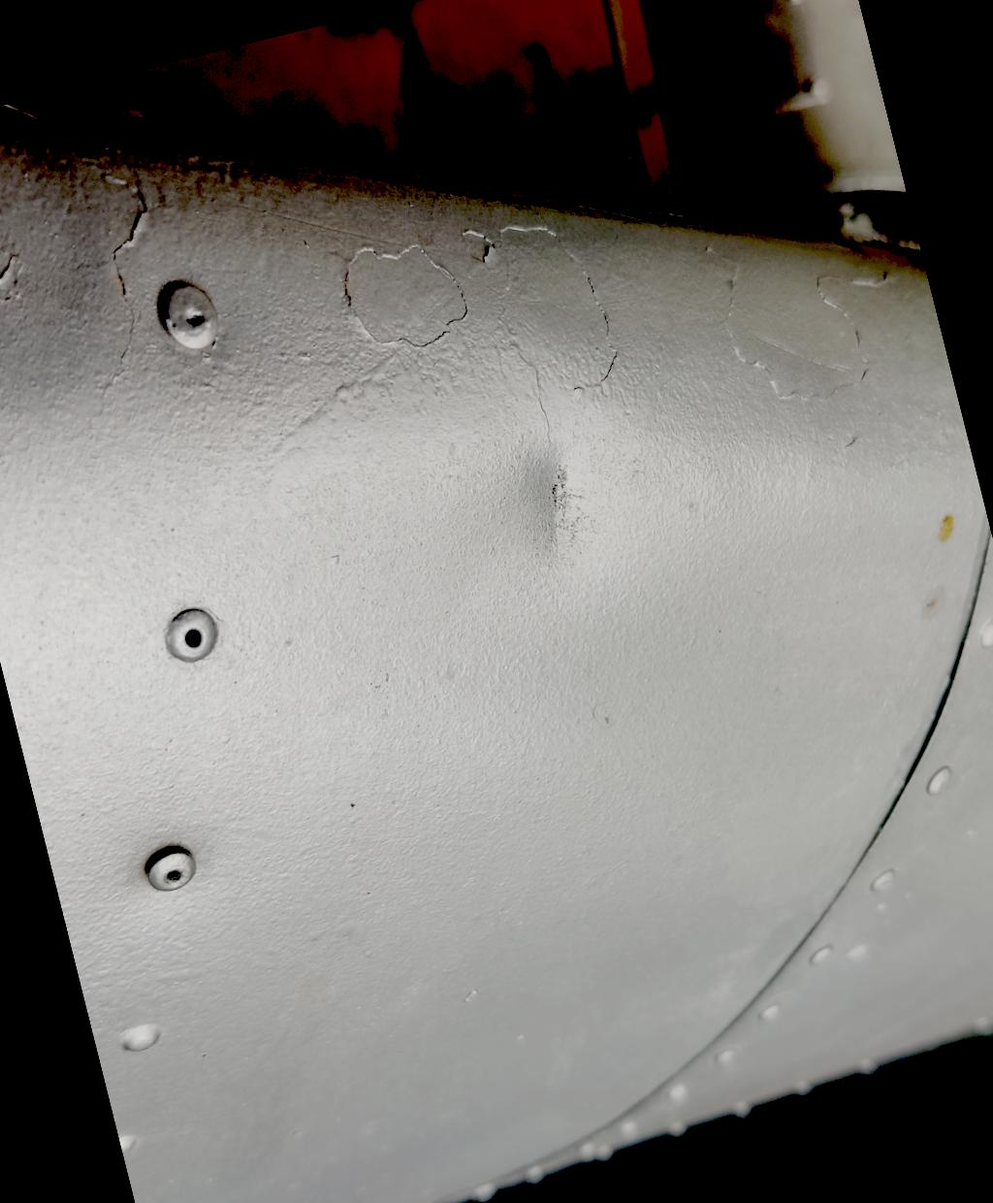dent: (458, 399, 649, 598)
